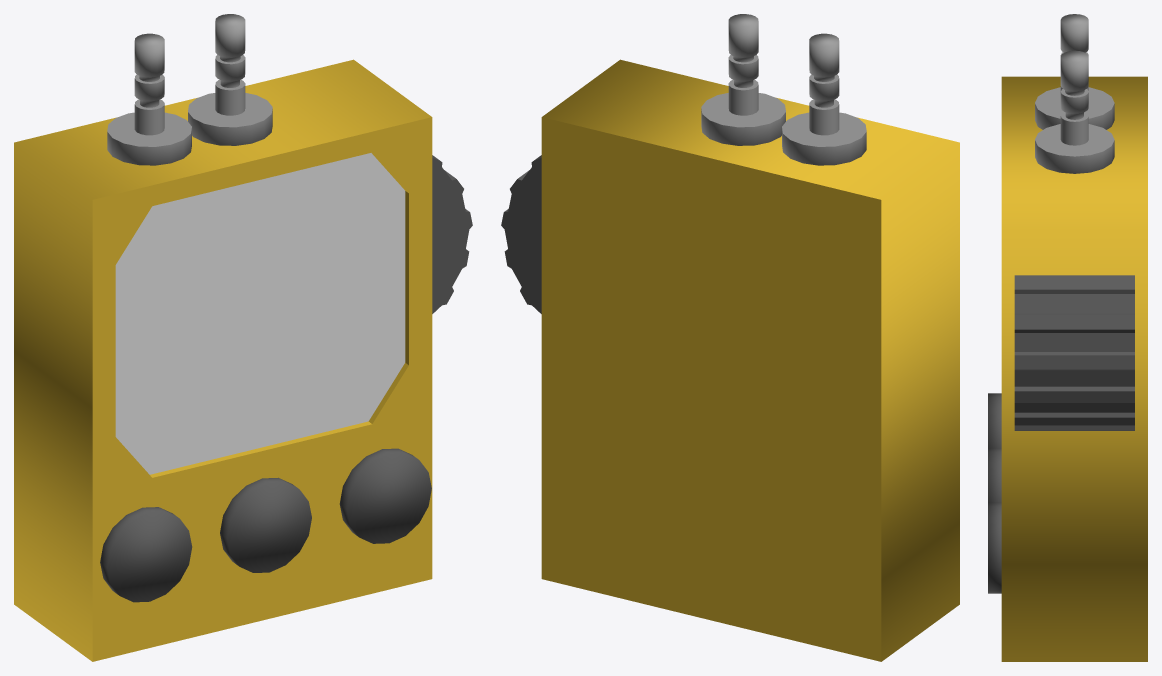
The model's file is Tool.fbx.
3 renders of one model, left to right at view 1: azimuth 30°, elevation 25°; view 2: azimuth 150°, elevation 25°; view 3: azimuth 270°, elevation 25°, orthographic. The views are drawn at different scales.
Parts seen in each view (by area): view 1: Case, Screen, thing, Button.003, Button, Button.002, Button.001; view 2: Case, thing, Button.001; view 3: Case, Button.001, thing, Button.003, Button, Button.002.
Part boxes in pixels (x1,y1,x2,y2): Case: (14, 59, 432, 661); Screen: (115, 153, 405, 474); thing: (107, 14, 272, 165); Button.003: (339, 448, 431, 543); Button: (100, 507, 192, 602); Button.002: (220, 477, 311, 572); Button.001: (432, 155, 472, 313); Case: (541, 59, 959, 661); thing: (701, 14, 866, 165); Button.001: (501, 155, 541, 313); Case: (1001, 76, 1147, 661); Button.001: (1014, 275, 1134, 430); thing: (1035, 14, 1114, 173); Button.003: (988, 502, 1001, 593); Button: (988, 393, 1001, 447); Button.002: (988, 448, 1001, 502).
Size of the model in its own units: 68.73 by 96.62 by 26.34.
